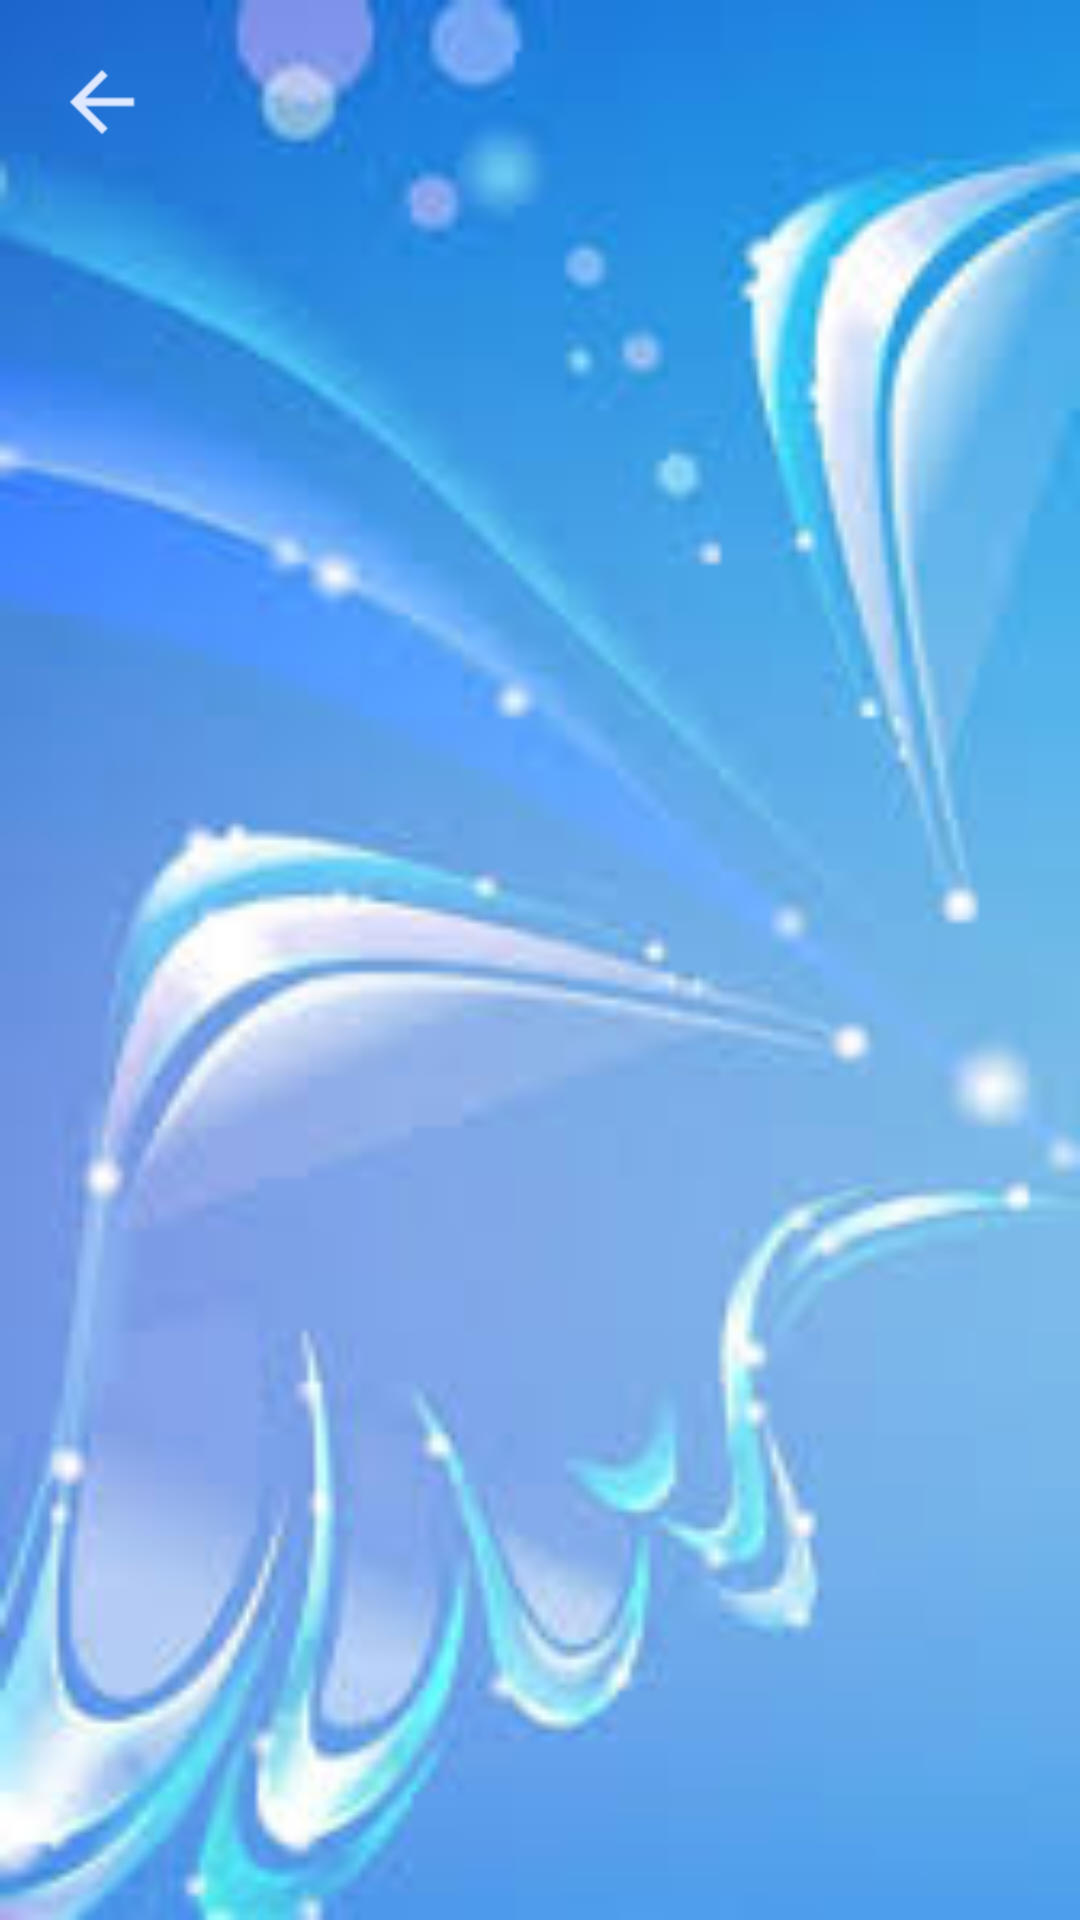

Where to tap for icons on this 1080w x 1920h app screen, as point (x, y):
back: point (102, 102)
